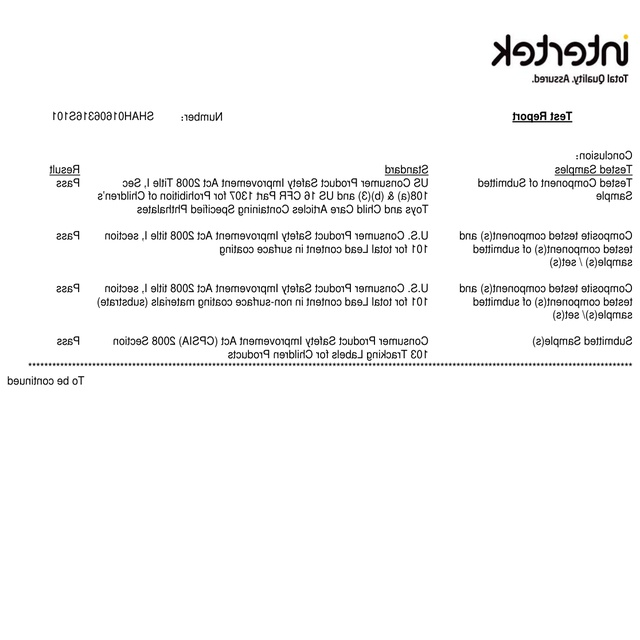intertek: (487, 30, 631, 68)
